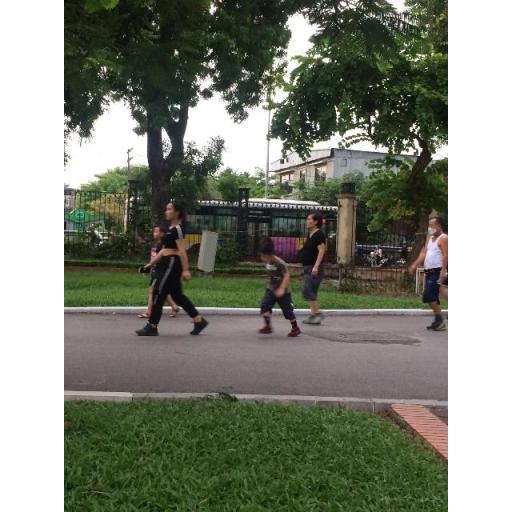Running: (138, 196, 213, 341), (248, 235, 305, 340)
